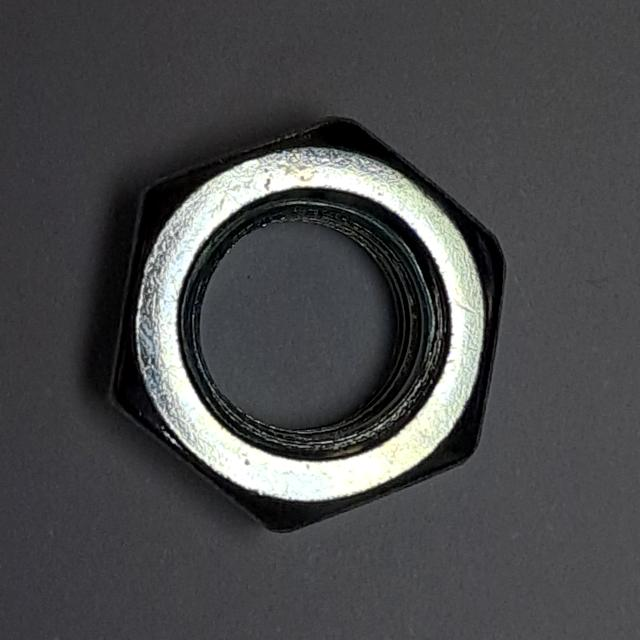Excellent: (96, 100, 516, 547)
